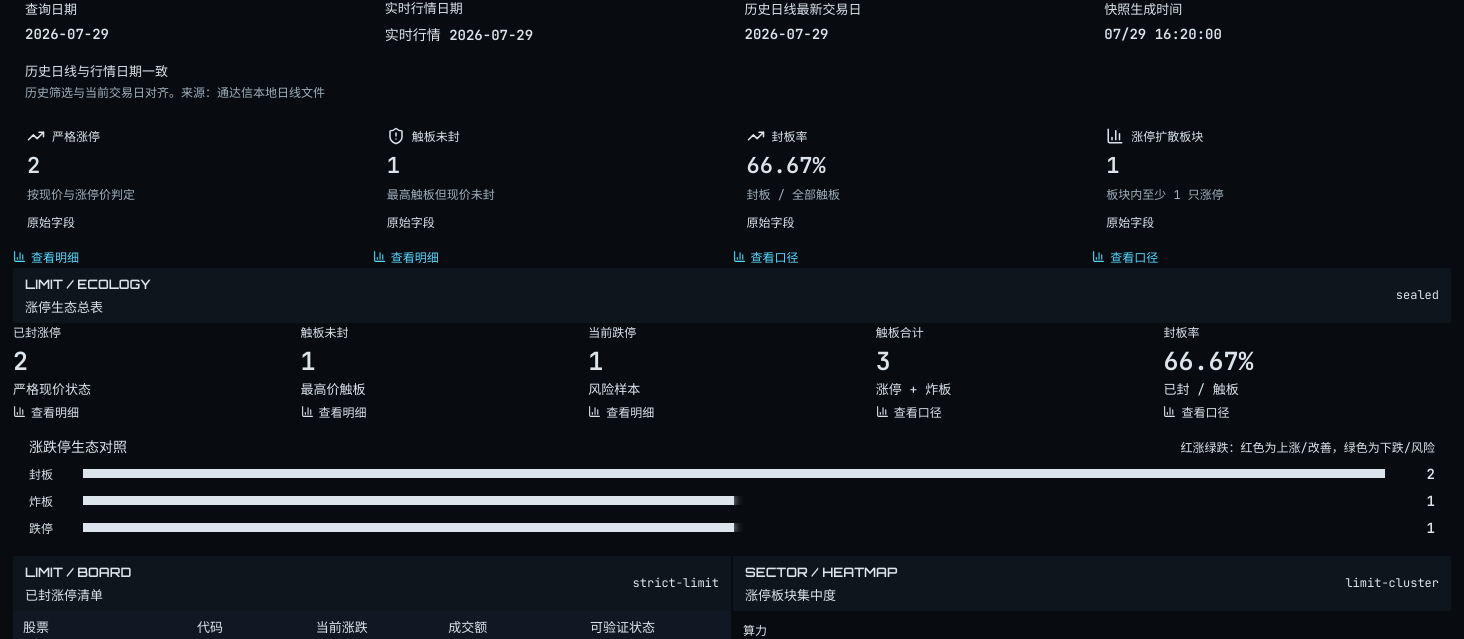
Test: DistinctMarketWorkspace › drills limit-ecology totals into the currently loaded named members
Step 1. Click the button with aria-label "筛选：已封涨停 2" → click(37, 333), box x1=13 y1=323 x2=301 y2=421
(page scrolled)
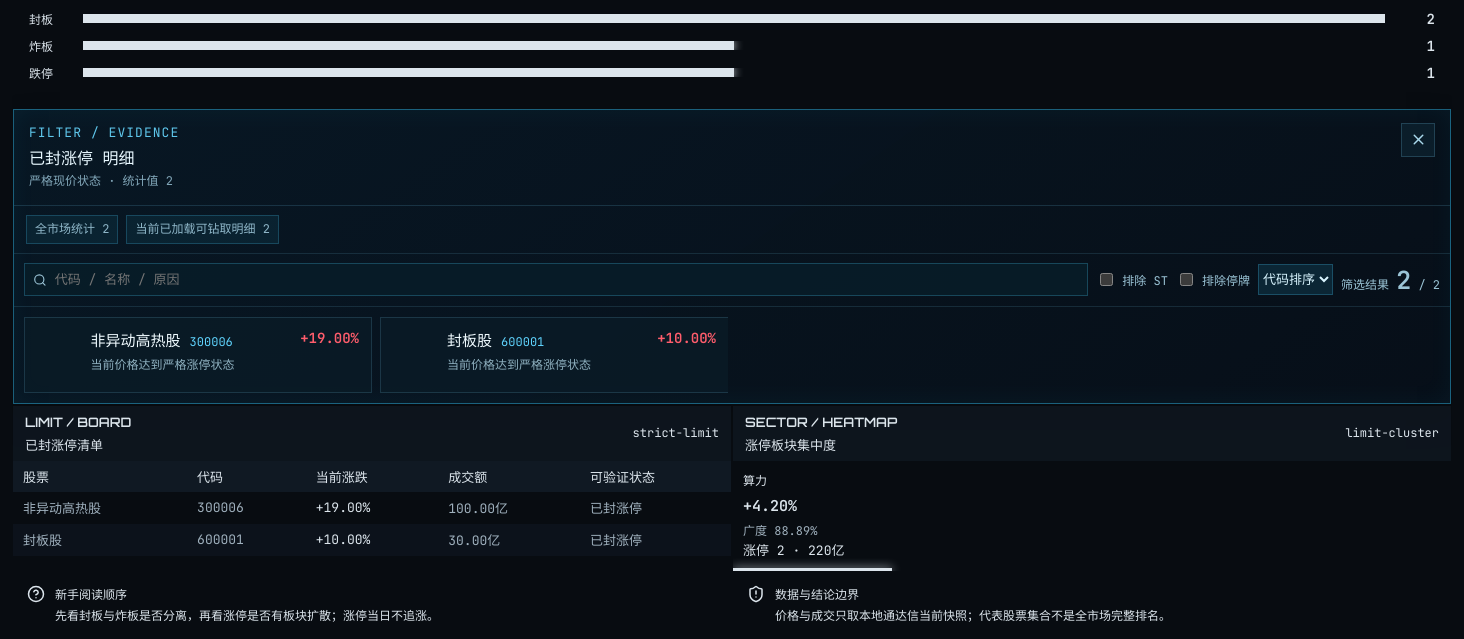
Check: the element "已封涨停 明细" shows "全市场统计 2", box x1=13 y1=109 x2=1451 y2=404
Check: the element "已封涨停 明细" shows "当前已加载可钻取明细 2", box x1=13 y1=109 x2=1451 y2=404
Check: the element "已封涨停 明细" shows "封板股", box x1=447 y1=331 x2=492 y2=351
